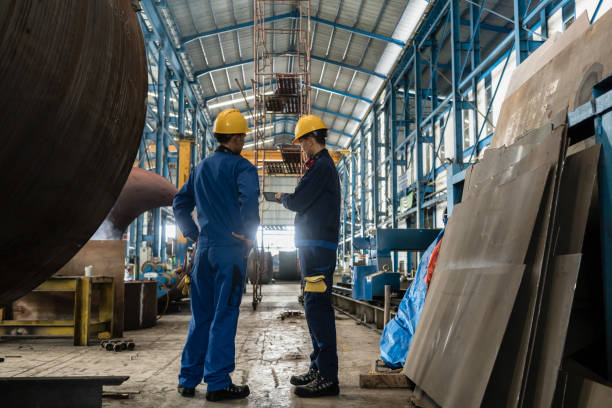person: (172, 109, 263, 405), (277, 115, 344, 397)
